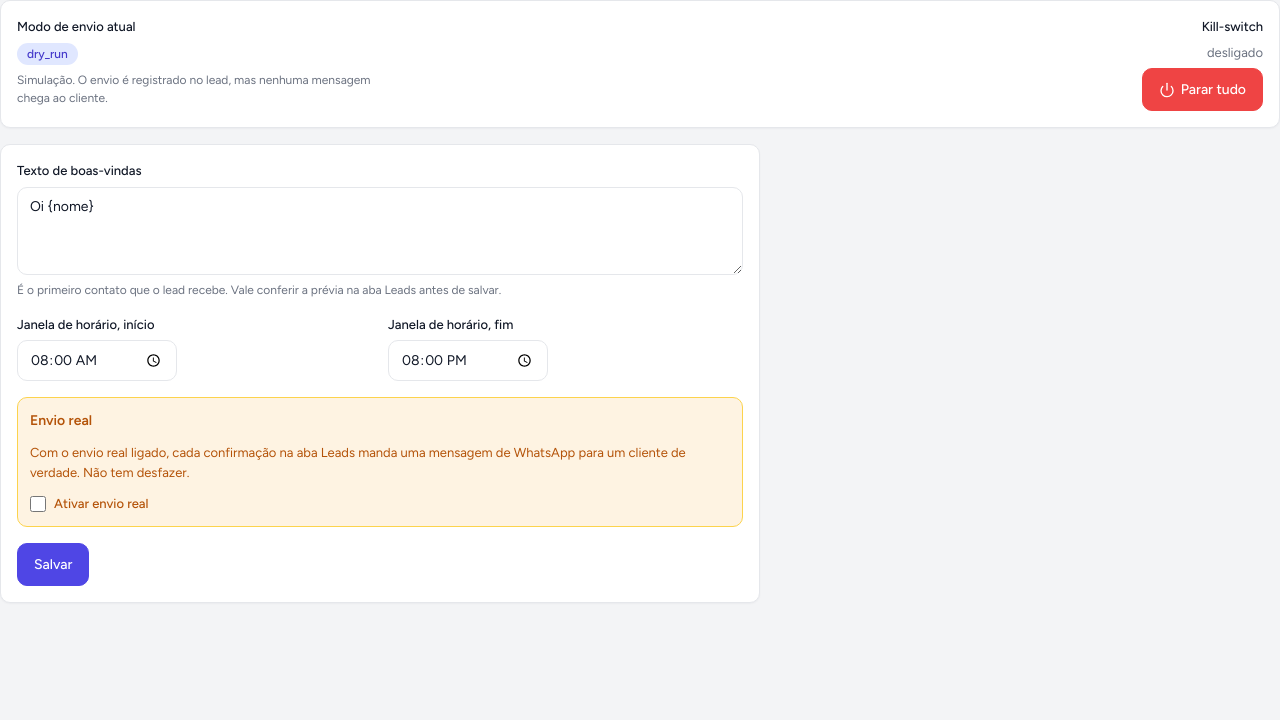
tela de configuração › exige confirmação escrita para ligar o envio real
The width and height of the screenshot is (1280, 720).
Click the checkbox labelled "Ativar envio real" at (38, 504), box [30,496,46,512]
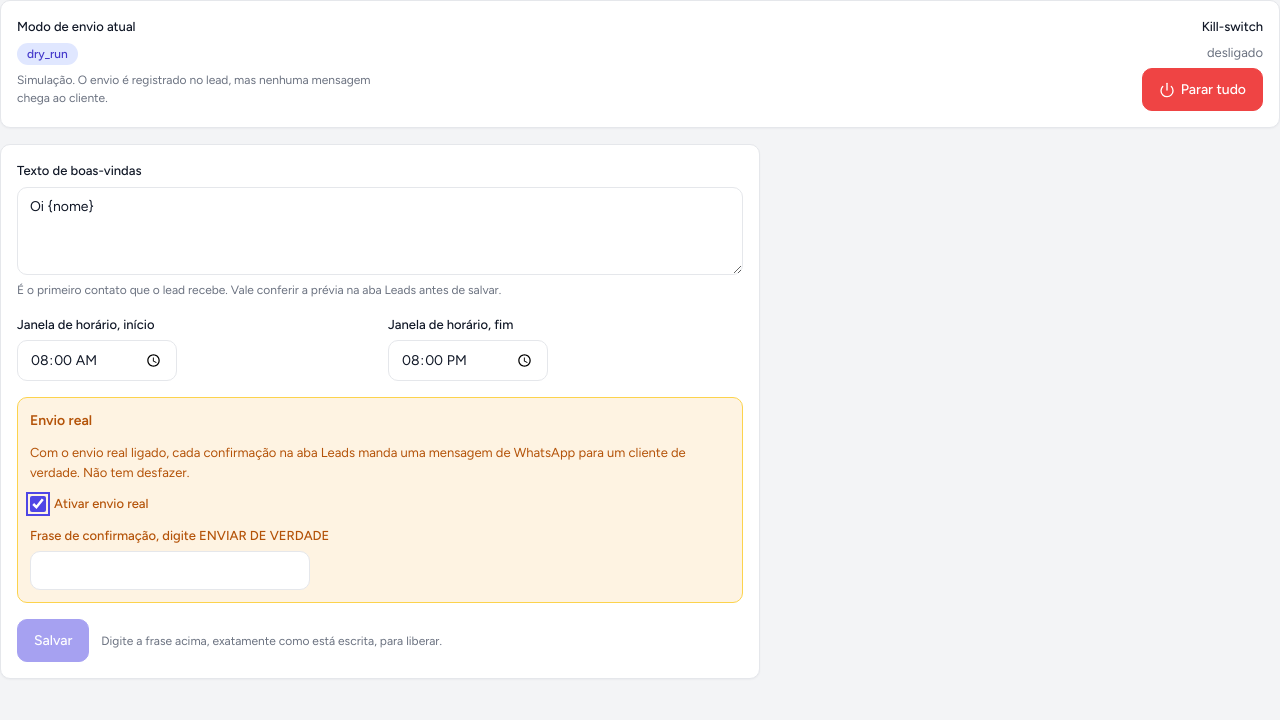
Now the button "Salvar" is disabled, box [17,619,89,662]
Type "ENVIAR DE VERDADE" into the field labelled "Frase de confirmação, digite ENVIAR DE VERDADE" at (170, 570), box [30,551,310,590]
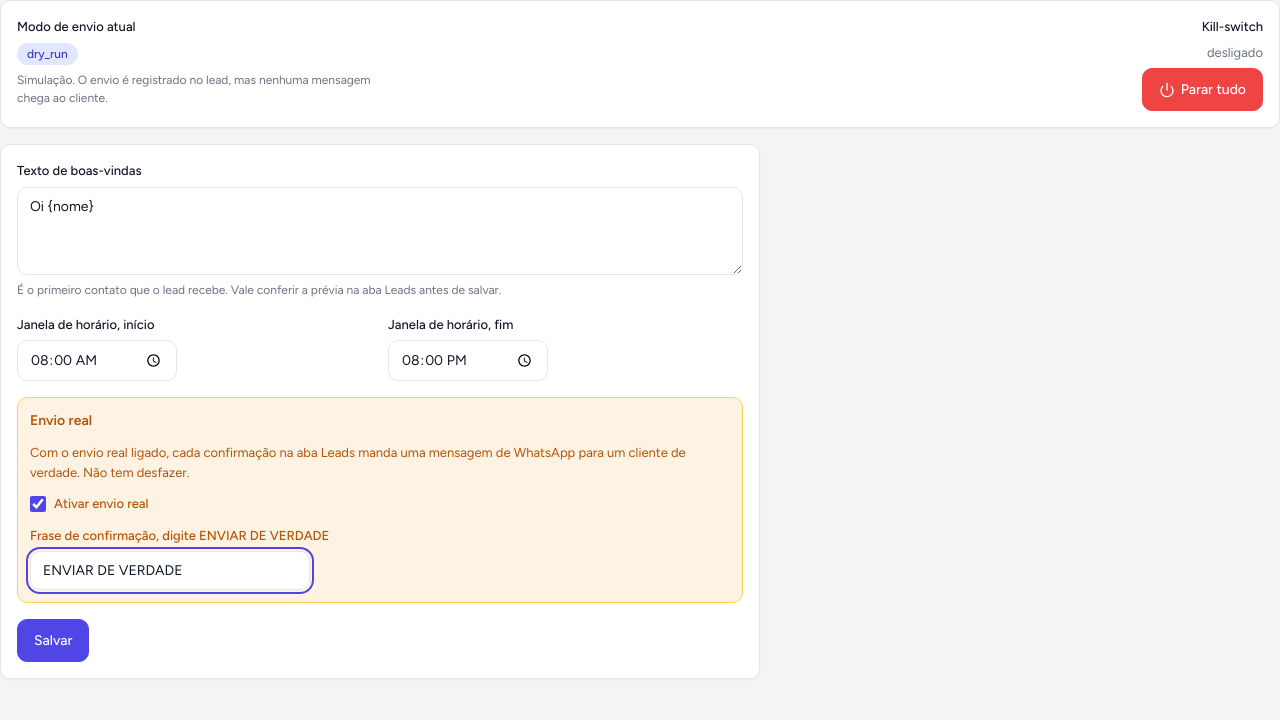
Now the button "Salvar" is enabled, box [17,619,89,662]
